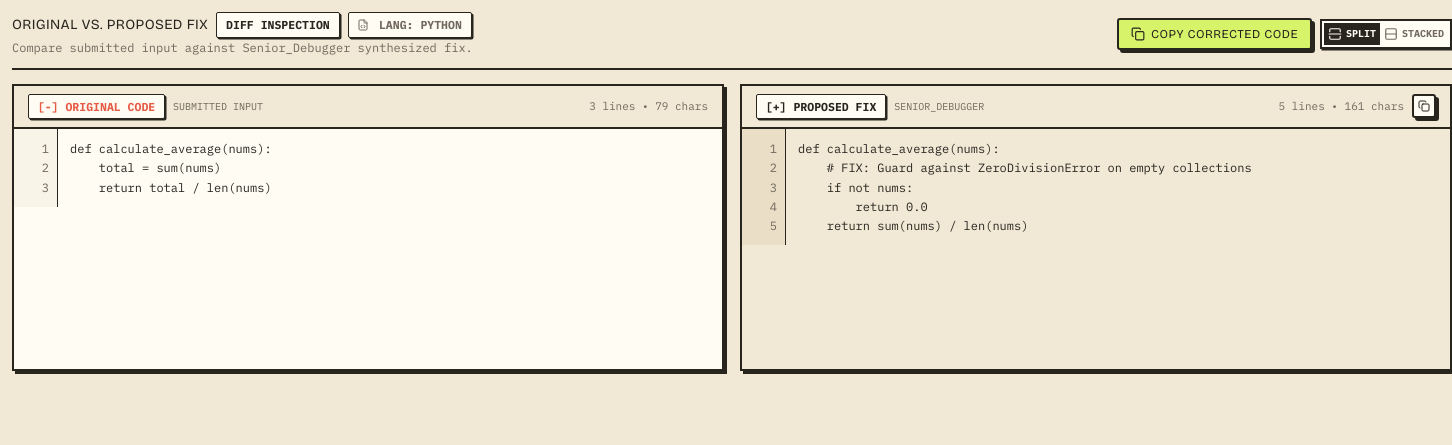
Test case: SideBySideComparison & Copy Corrected Code Suite › handles clipboard failure gracefully and presents understandable error feedback
The image size is (1452, 445).
Click the button "Copy corrected code": (1214, 34) [1117,18,1312,50]
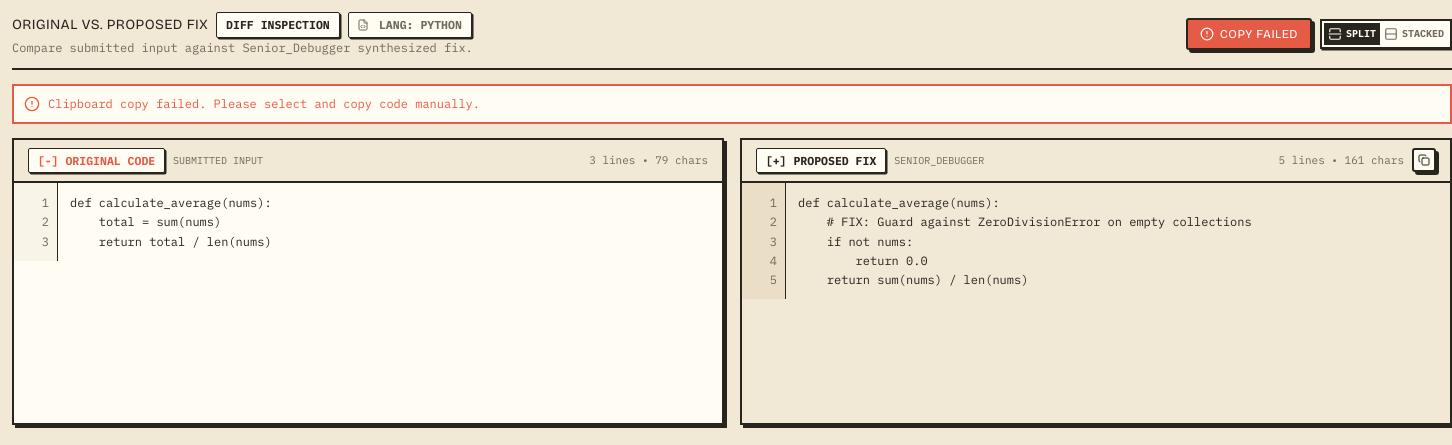
Result: the text "Copy failed" is shown at [1200,26,1298,42]
